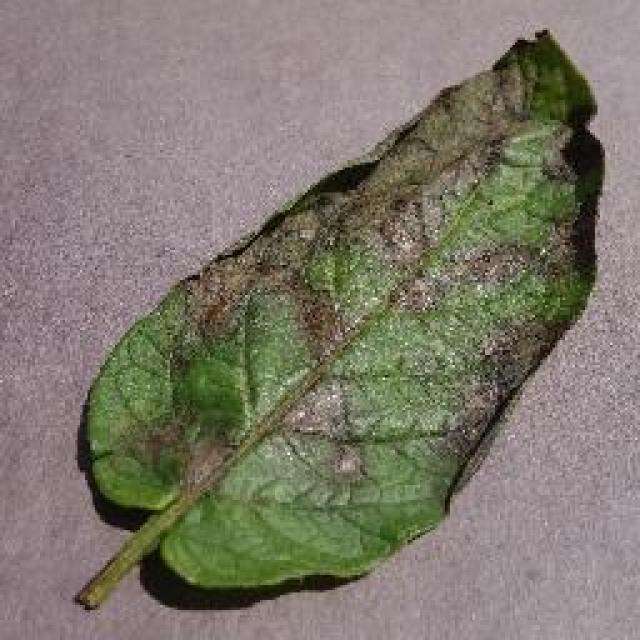late_blight: (70, 25, 608, 610)
